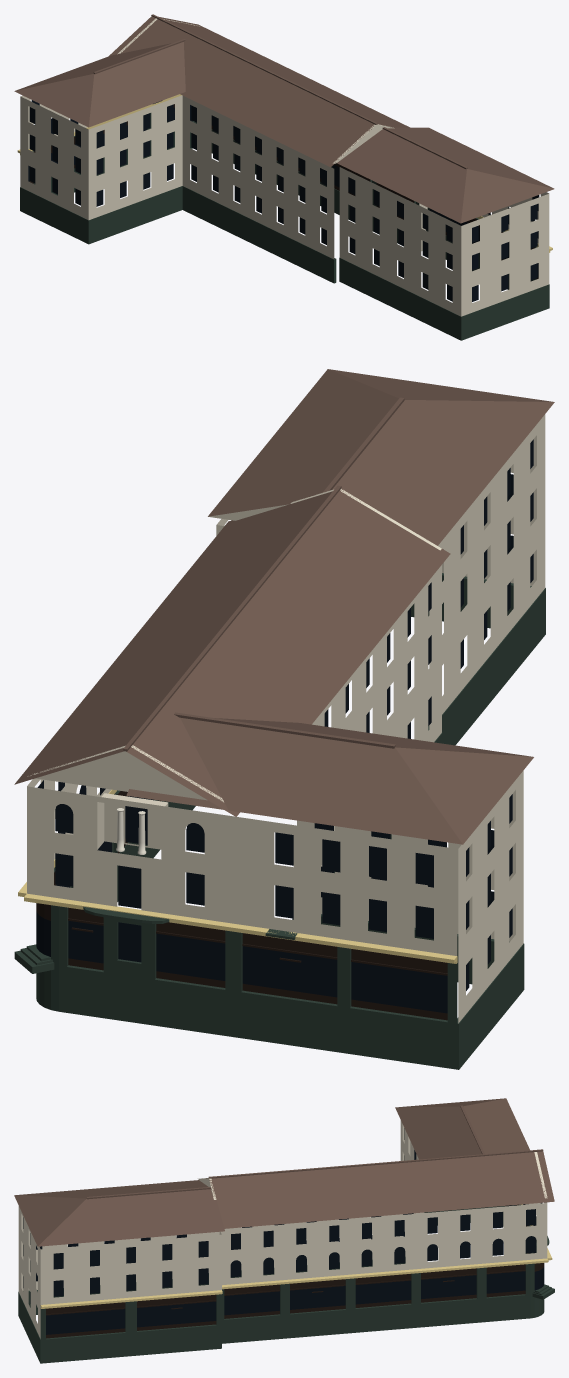
3 views of the same model, one above another, from view 1: azimuth 30°, elevation 25°; view 2: azimuth 150°, elevation 25°; view 3: azimuth 270°, elevation 25° (orthographic). The views are drawn at different scales.
Visible parts, largest first — view 1: bm10_wall, bm10_roof, bm10_stone, bm10_glass, bm10_wall3; view 2: bm10_roof, bm10_wall, bm10_stone, bm10_glass, bm10_wall3, bm10_wall2; view 3: bm10_roof, bm10_wall, bm10_stone, bm10_glass, bm10_wall3, bm10_wall2.
Boxes of the visible parts, x1=… form: bm10_wall: x1=20, y1=18, x2=549, y2=316; bm10_roof: x1=14, y1=14, x2=554, y2=223; bm10_stone: x1=20, y1=113, x2=549, y2=340; bm10_glass: x1=28, y1=100, x2=539, y2=301; bm10_wall3: x1=29, y1=104, x2=538, y2=279; bm10_roof: x1=14, y1=369, x2=554, y2=844; bm10_wall: x1=27, y1=414, x2=545, y2=1023; bm10_stone: x1=14, y1=573, x2=545, y2=1069; bm10_glass: x1=36, y1=439, x2=533, y2=1013; bm10_wall3: x1=36, y1=791, x2=447, y2=1020; bm10_wall2: x1=18, y1=789, x2=457, y2=963; bm10_roof: x1=14, y1=1098, x2=554, y2=1246; bm10_wall: x1=18, y1=1120, x2=547, y2=1338; bm10_stone: x1=18, y1=1204, x2=554, y2=1363; bm10_glass: x1=23, y1=1128, x2=544, y2=1334; bm10_wall3: x1=46, y1=1204, x2=544, y2=1338; bm10_wall2: x1=40, y1=1204, x2=552, y2=1308.
Bounding box in the file's own units: 40.2 × 18.12 × 61.89.
